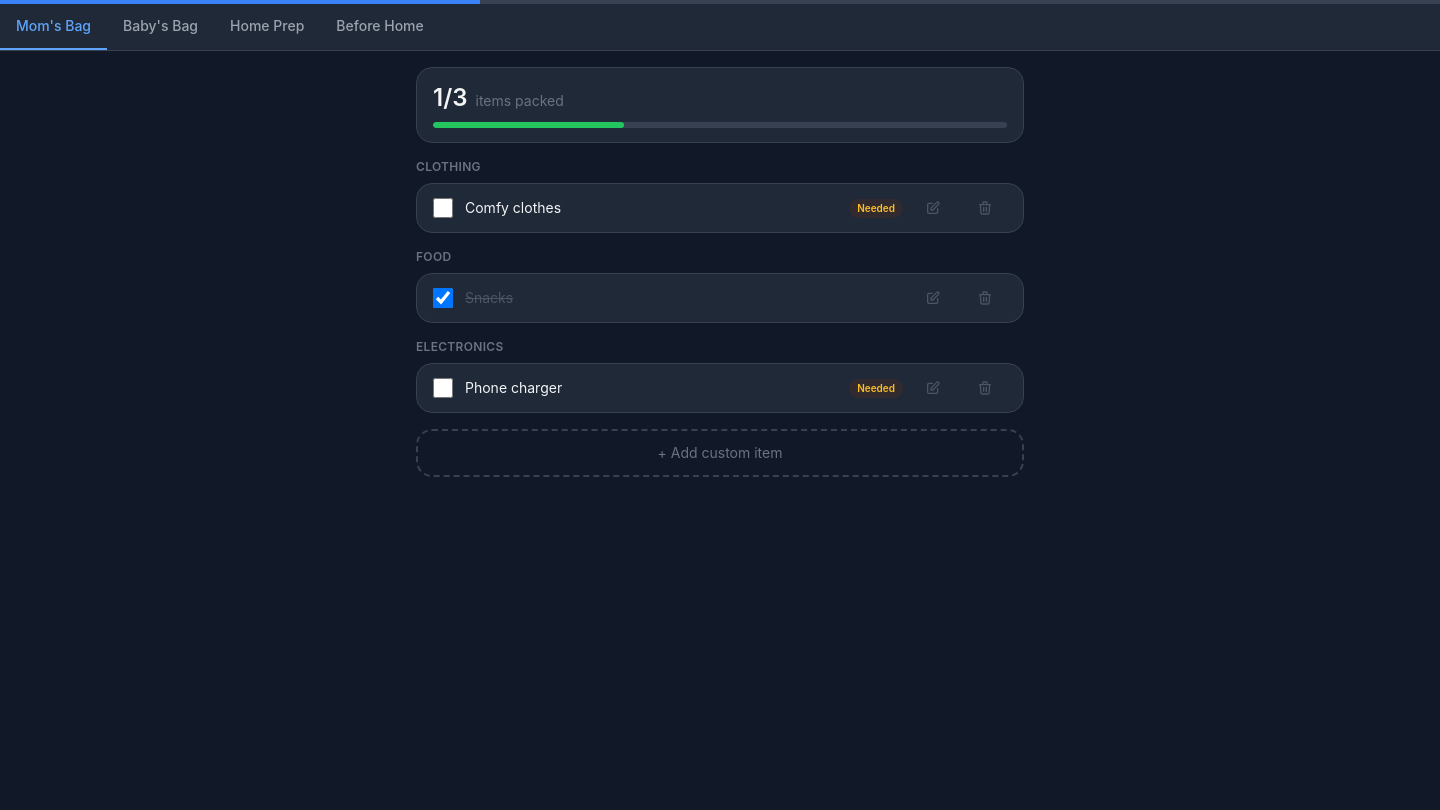
ChecklistPage › edit button opens an inline form pre-populated with the item label and category
Expected: the text "Comfy clothes" is shown, [465,199,561,216]
Click the button named "Edit Comfy clothes" at (933, 208), box [911,186,955,230]
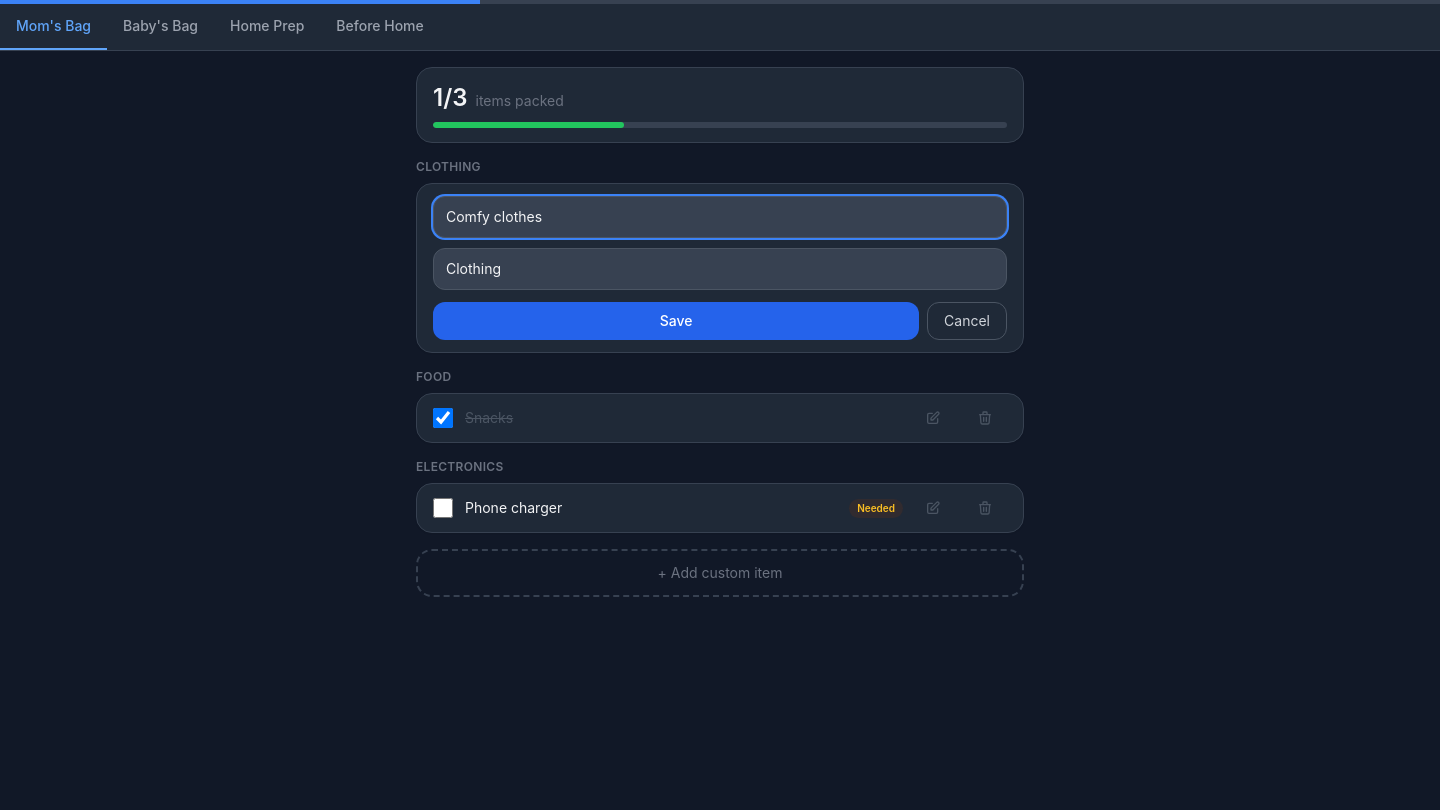
Expected: the 1st field with placeholder "Item name" holds "Comfy clothes", [433,196,1007,238]
Expected: the 2nd field with placeholder "Category" holds "Clothing", [433,248,1007,290]
